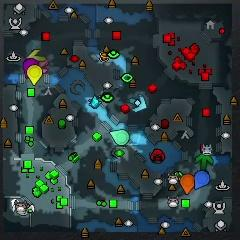p1: (194, 170, 209, 189)
p2: (109, 130, 129, 145)
p3: (23, 58, 38, 78)
p4: (27, 65, 42, 85)
p5: (180, 174, 195, 195)
x1: (38, 60, 48, 75)
x2: (27, 49, 45, 61)
x3: (130, 94, 147, 112)
x4: (196, 153, 213, 171)
